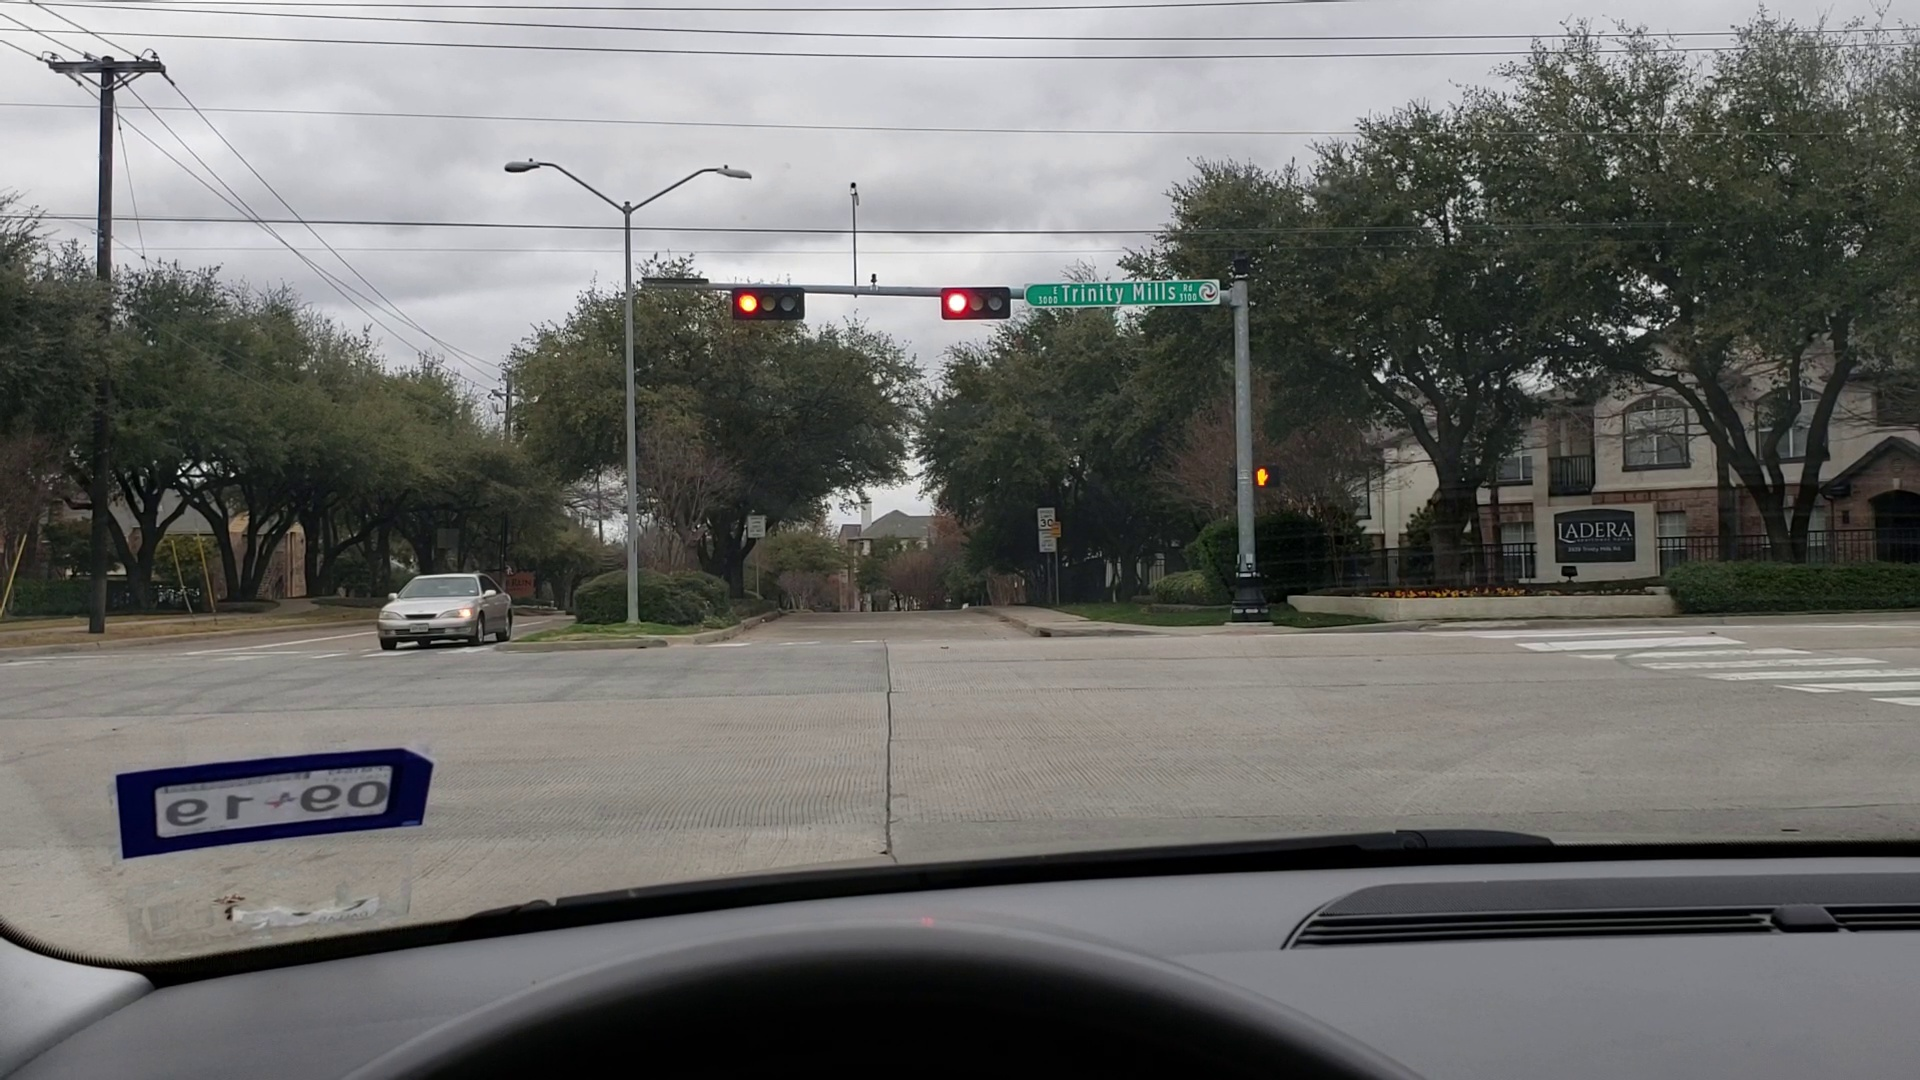car: (369, 574, 517, 651)
traffic light: (736, 287, 804, 319), (943, 285, 1011, 315)
